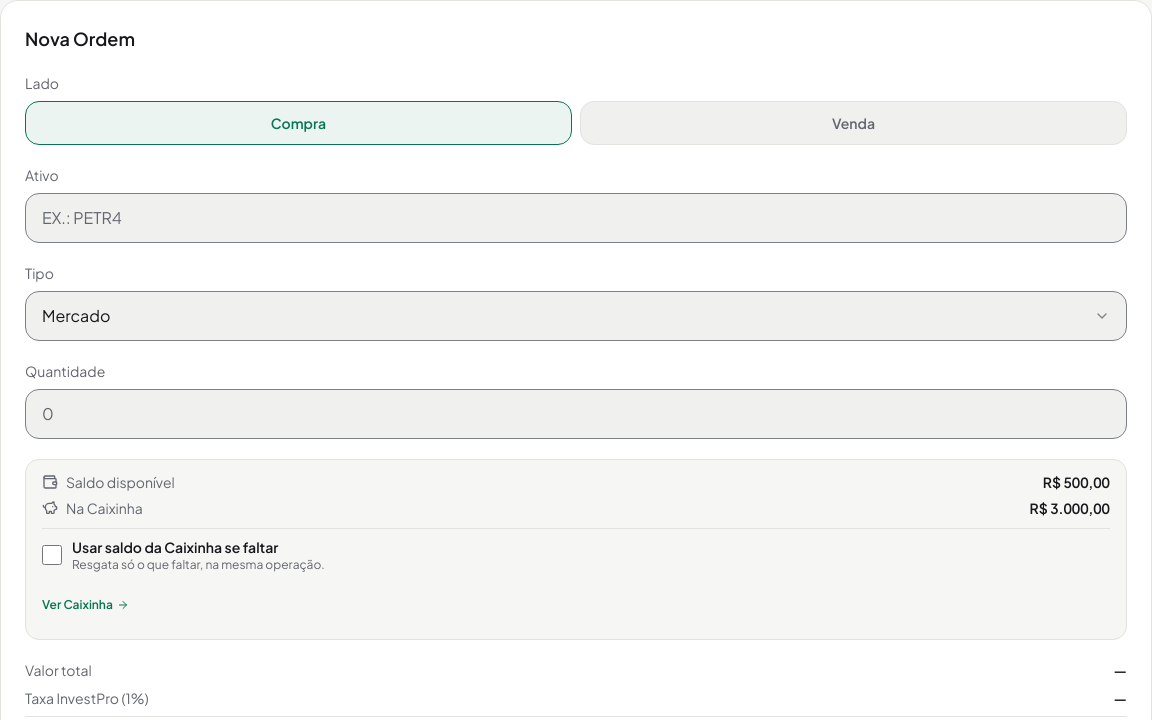
Test case: NewOrderForm › usar a Caixinha se faltar (compra) › com saldo em conta suficiente, avisa que a Caixinha não é usada
Type "PETR4" into the dropdown with placeholder "ex.: PETR4". click: (576, 218)
box: [25,193,1127,243]
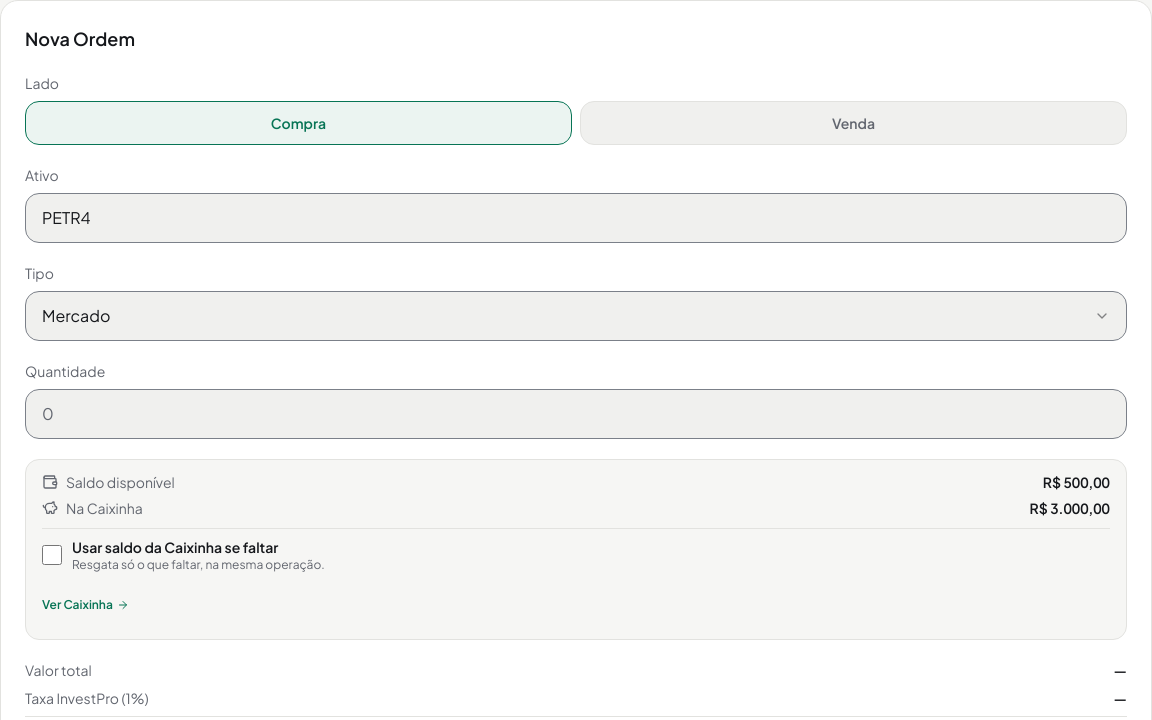
Type "10" into the field labelled "Quantidade". click: (576, 414)
box: [25,389,1127,439]
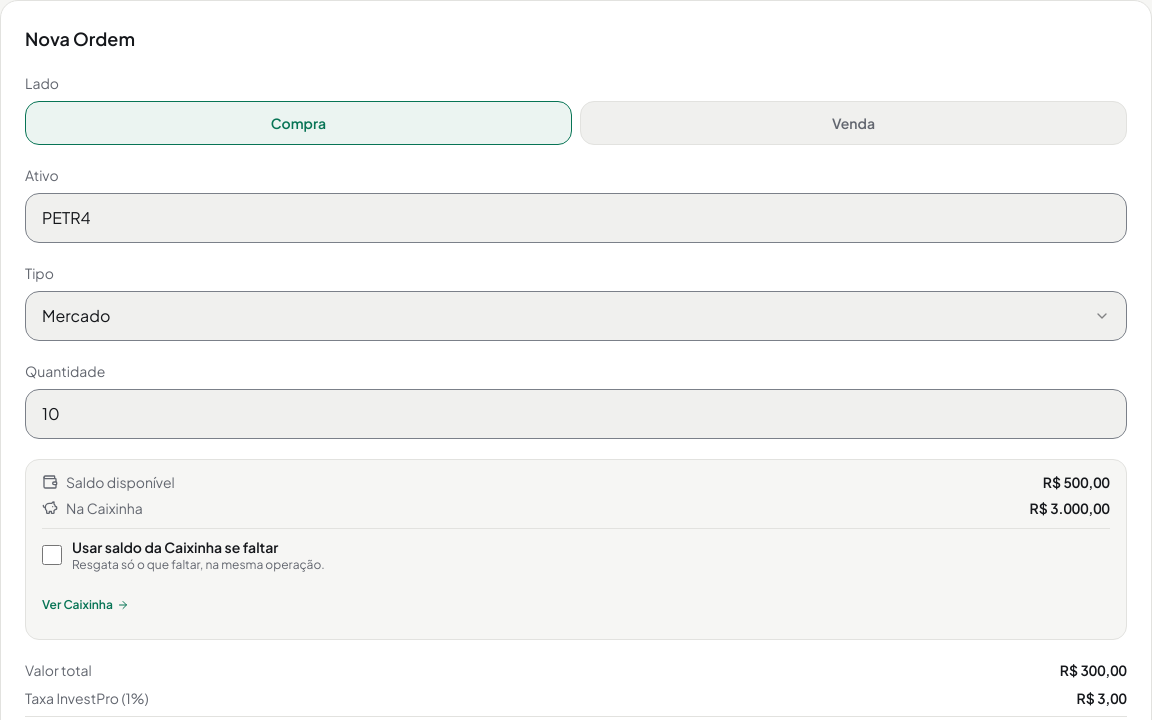
Click the checkbox labelled "Usar saldo da Caixinha se faltar". click: (52, 555)
box: [42,545,62,565]
(page scrolled)
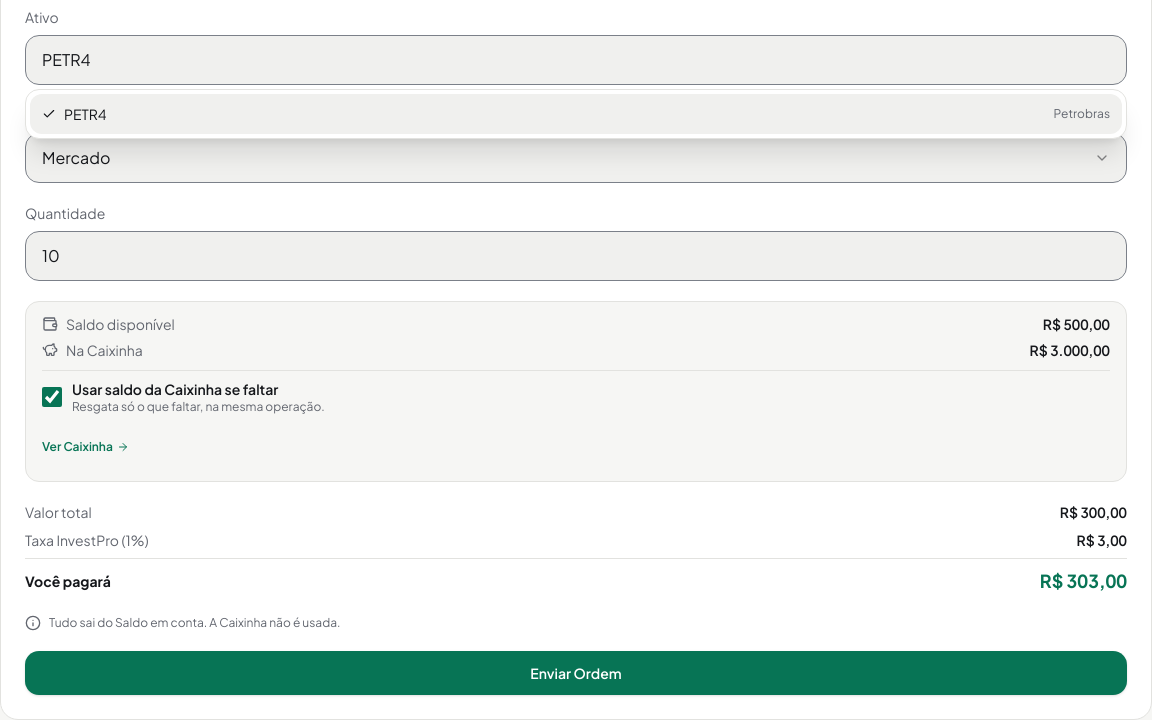
Expected: the button "Enviar Ordem" is enabled, [25,651,1127,695]
Expected: the text "Tudo sai do Saldo em conta. A Caixinha não é usada." is shown, [25,615,340,631]
